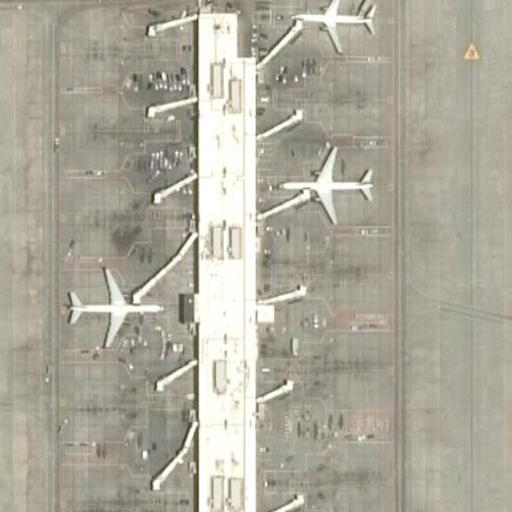Aircraft: (62, 270, 161, 353), (278, 144, 379, 223), (289, 0, 379, 54)
